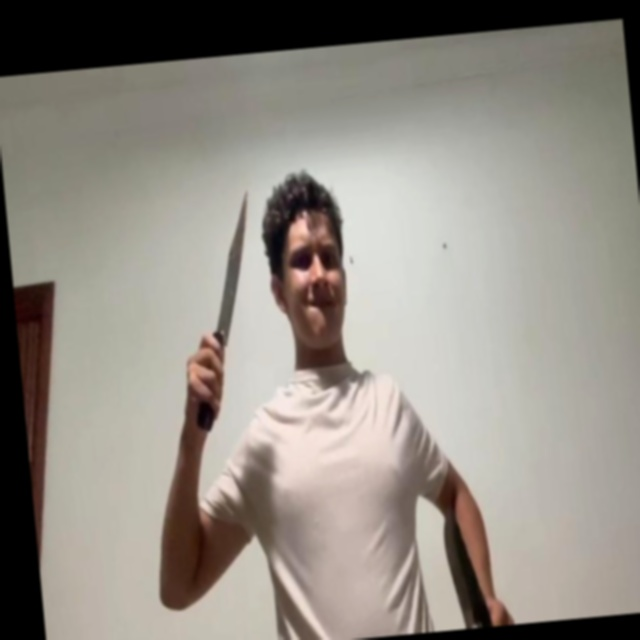Sharp-Object: (206, 193, 263, 345)
